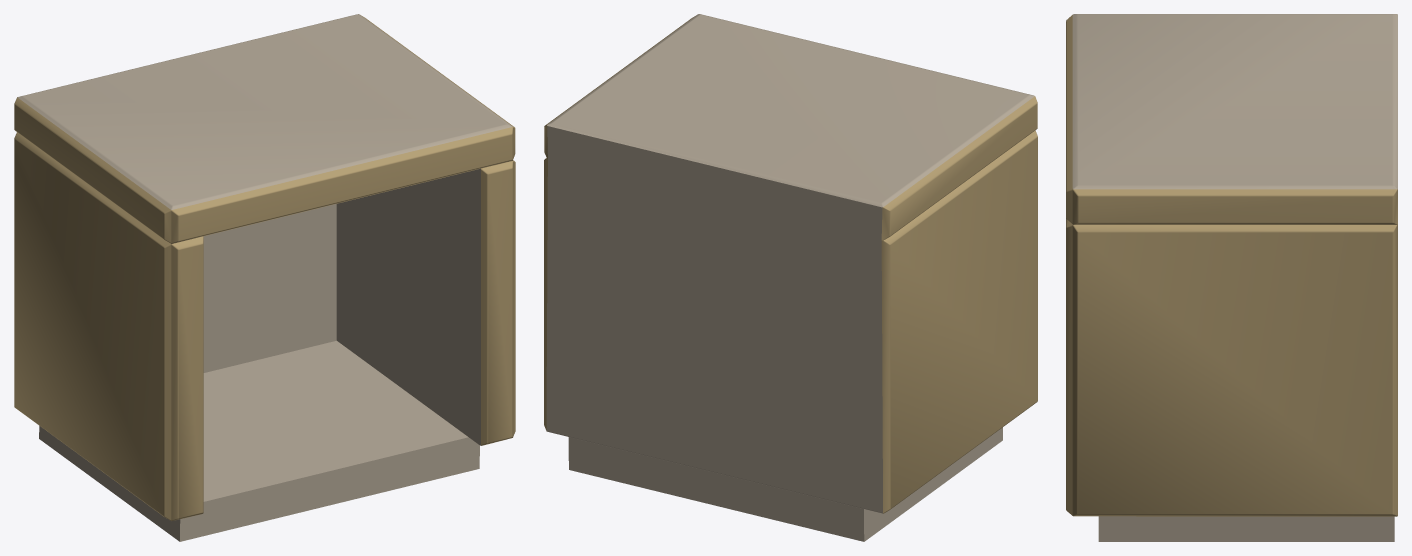
File: SM_Bed_Drawer.FBX
The picture shows the model from 3 angles, left to right: view 1: azimuth 30°, elevation 25°; view 2: azimuth 150°, elevation 25°; view 3: azimuth 270°, elevation 25°; orthographic projection. The views are drawn at different scales.
Parts seen in each view (by area): view 1: SM_Bed_Drawer; view 2: SM_Bed_Drawer; view 3: SM_Bed_Drawer.
Boxes of the visible parts, bbox=[...] form: SM_Bed_Drawer: bbox=[14, 14, 515, 541]; SM_Bed_Drawer: bbox=[544, 14, 1037, 541]; SM_Bed_Drawer: bbox=[1066, 14, 1397, 541].
Size of the model in its own units: 59.69 by 46.4 by 56.35.
